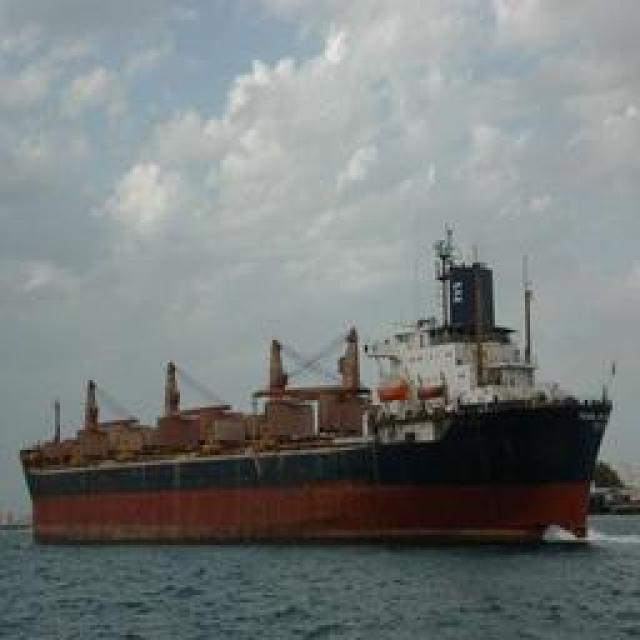CIV_Ship: (9, 356, 606, 554)
